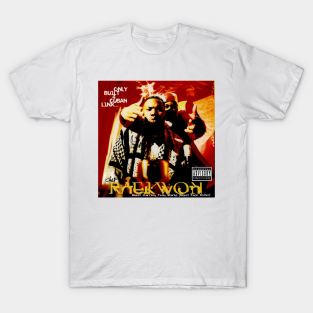design: (96, 78, 217, 199)
